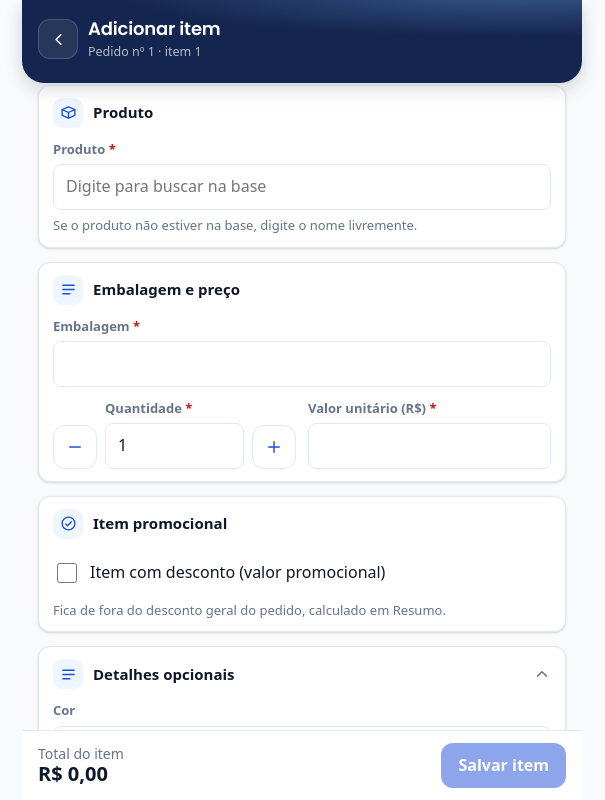
fluxo do pedido › pede para escolher a variante quando o produto tem mais de uma linha na base
Expected: the heading "Adicionar item" is shown, [88, 16, 220, 41]
Type "esmalte" into the field labelled "Produto *".
click(302, 187); type("esmalte")  # box [53, 164, 551, 210]
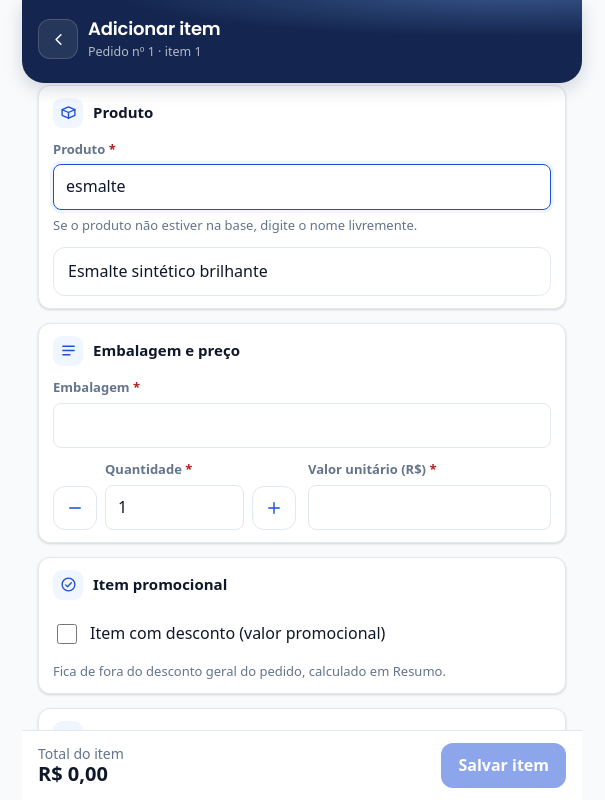
Click the button "Esmalte sintético brilhante".
click(168, 270)  # box [54, 248, 550, 295]
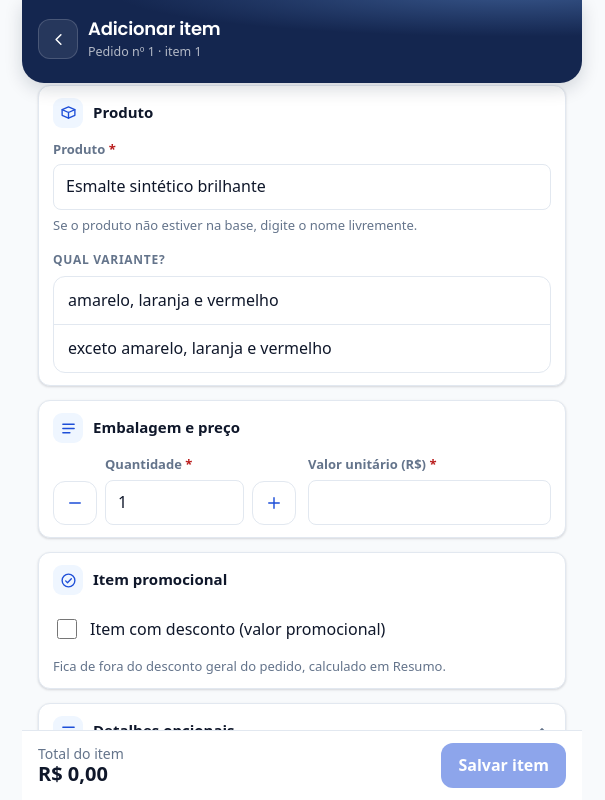
Expected: the button "Galão (3,6 L)" is not shown
Result: the text "exceto amarelo, laranja e vermelho" is shown at [68, 337, 332, 360]
Result: the text "amarelo, laranja e vermelho" is shown at [68, 289, 279, 312]
Click the button "amarelo, laranja e vermelho".
click(173, 300)  # box [54, 277, 550, 325]
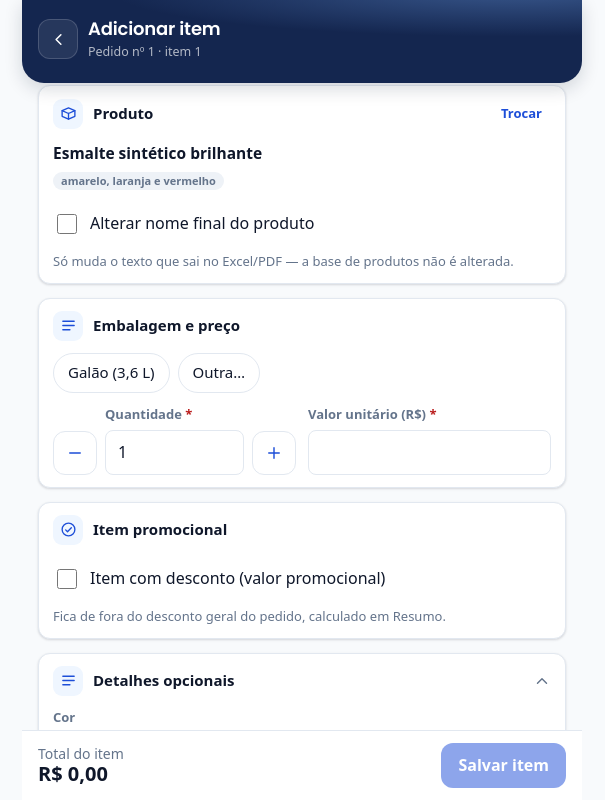
Result: the text "amarelo, laranja e vermelho" is shown at [53, 172, 224, 190]
Click the button "Galão (3,6 L)".
click(111, 373)  # box [53, 353, 170, 393]
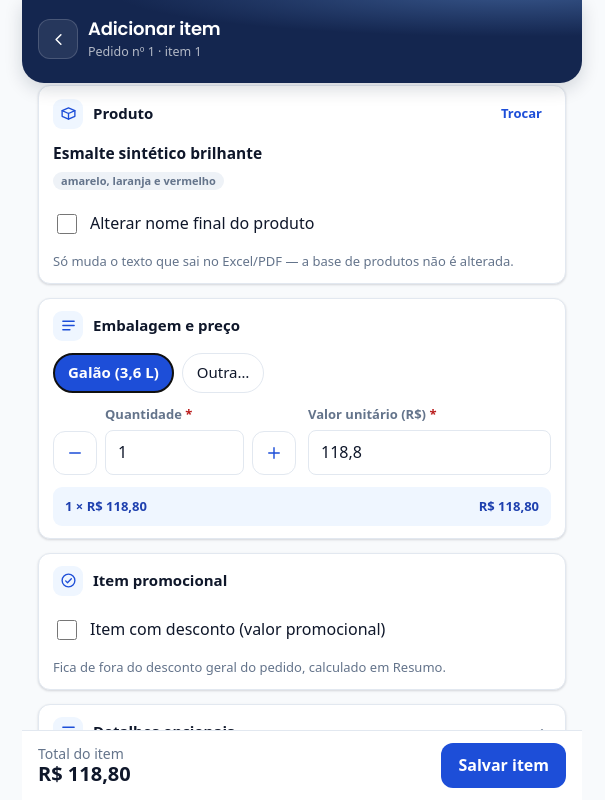
Replace the text in the field labelled "Quantidade *" with "2" at [174, 452], box [105, 430, 244, 475]
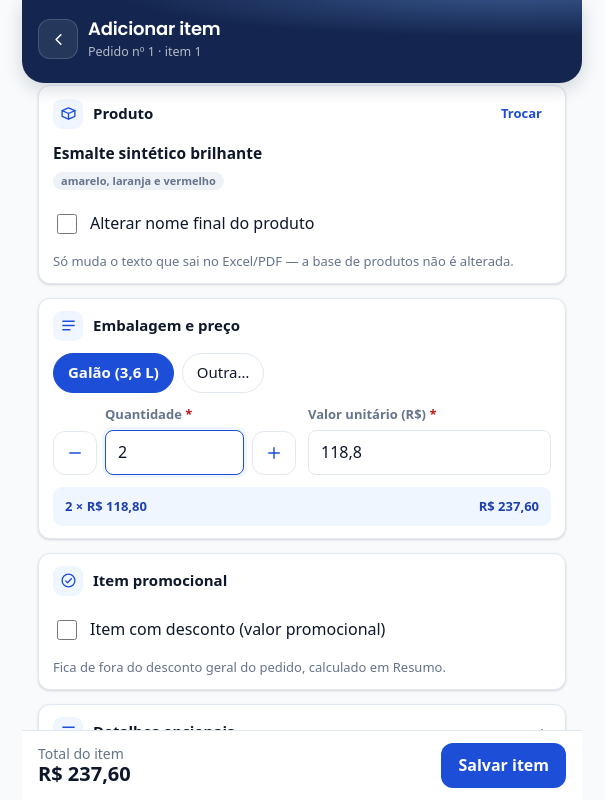
Result: the text "R$ 237,60" in the row of "R$ 118,80" is shown at [479, 497, 539, 515]
Click the button "Salvar item".
click(504, 765)  # box [442, 743, 566, 788]
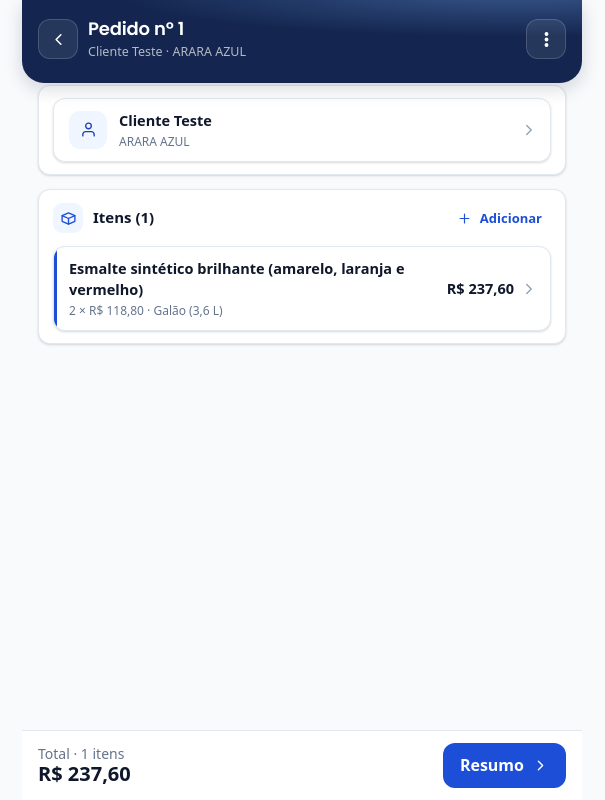
Result: the text "Esmalte sintético brilhante (amarelo, laranja e vermelho)" is shown at [69, 258, 435, 300]
